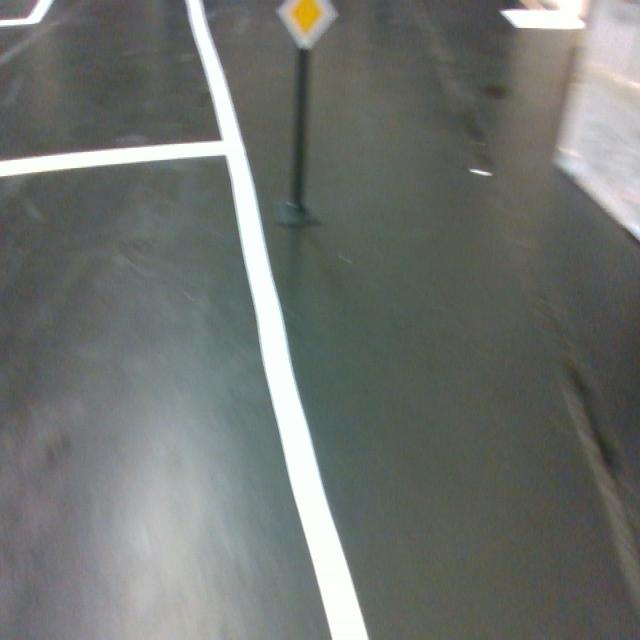priority-sign: (273, 0, 340, 52)
